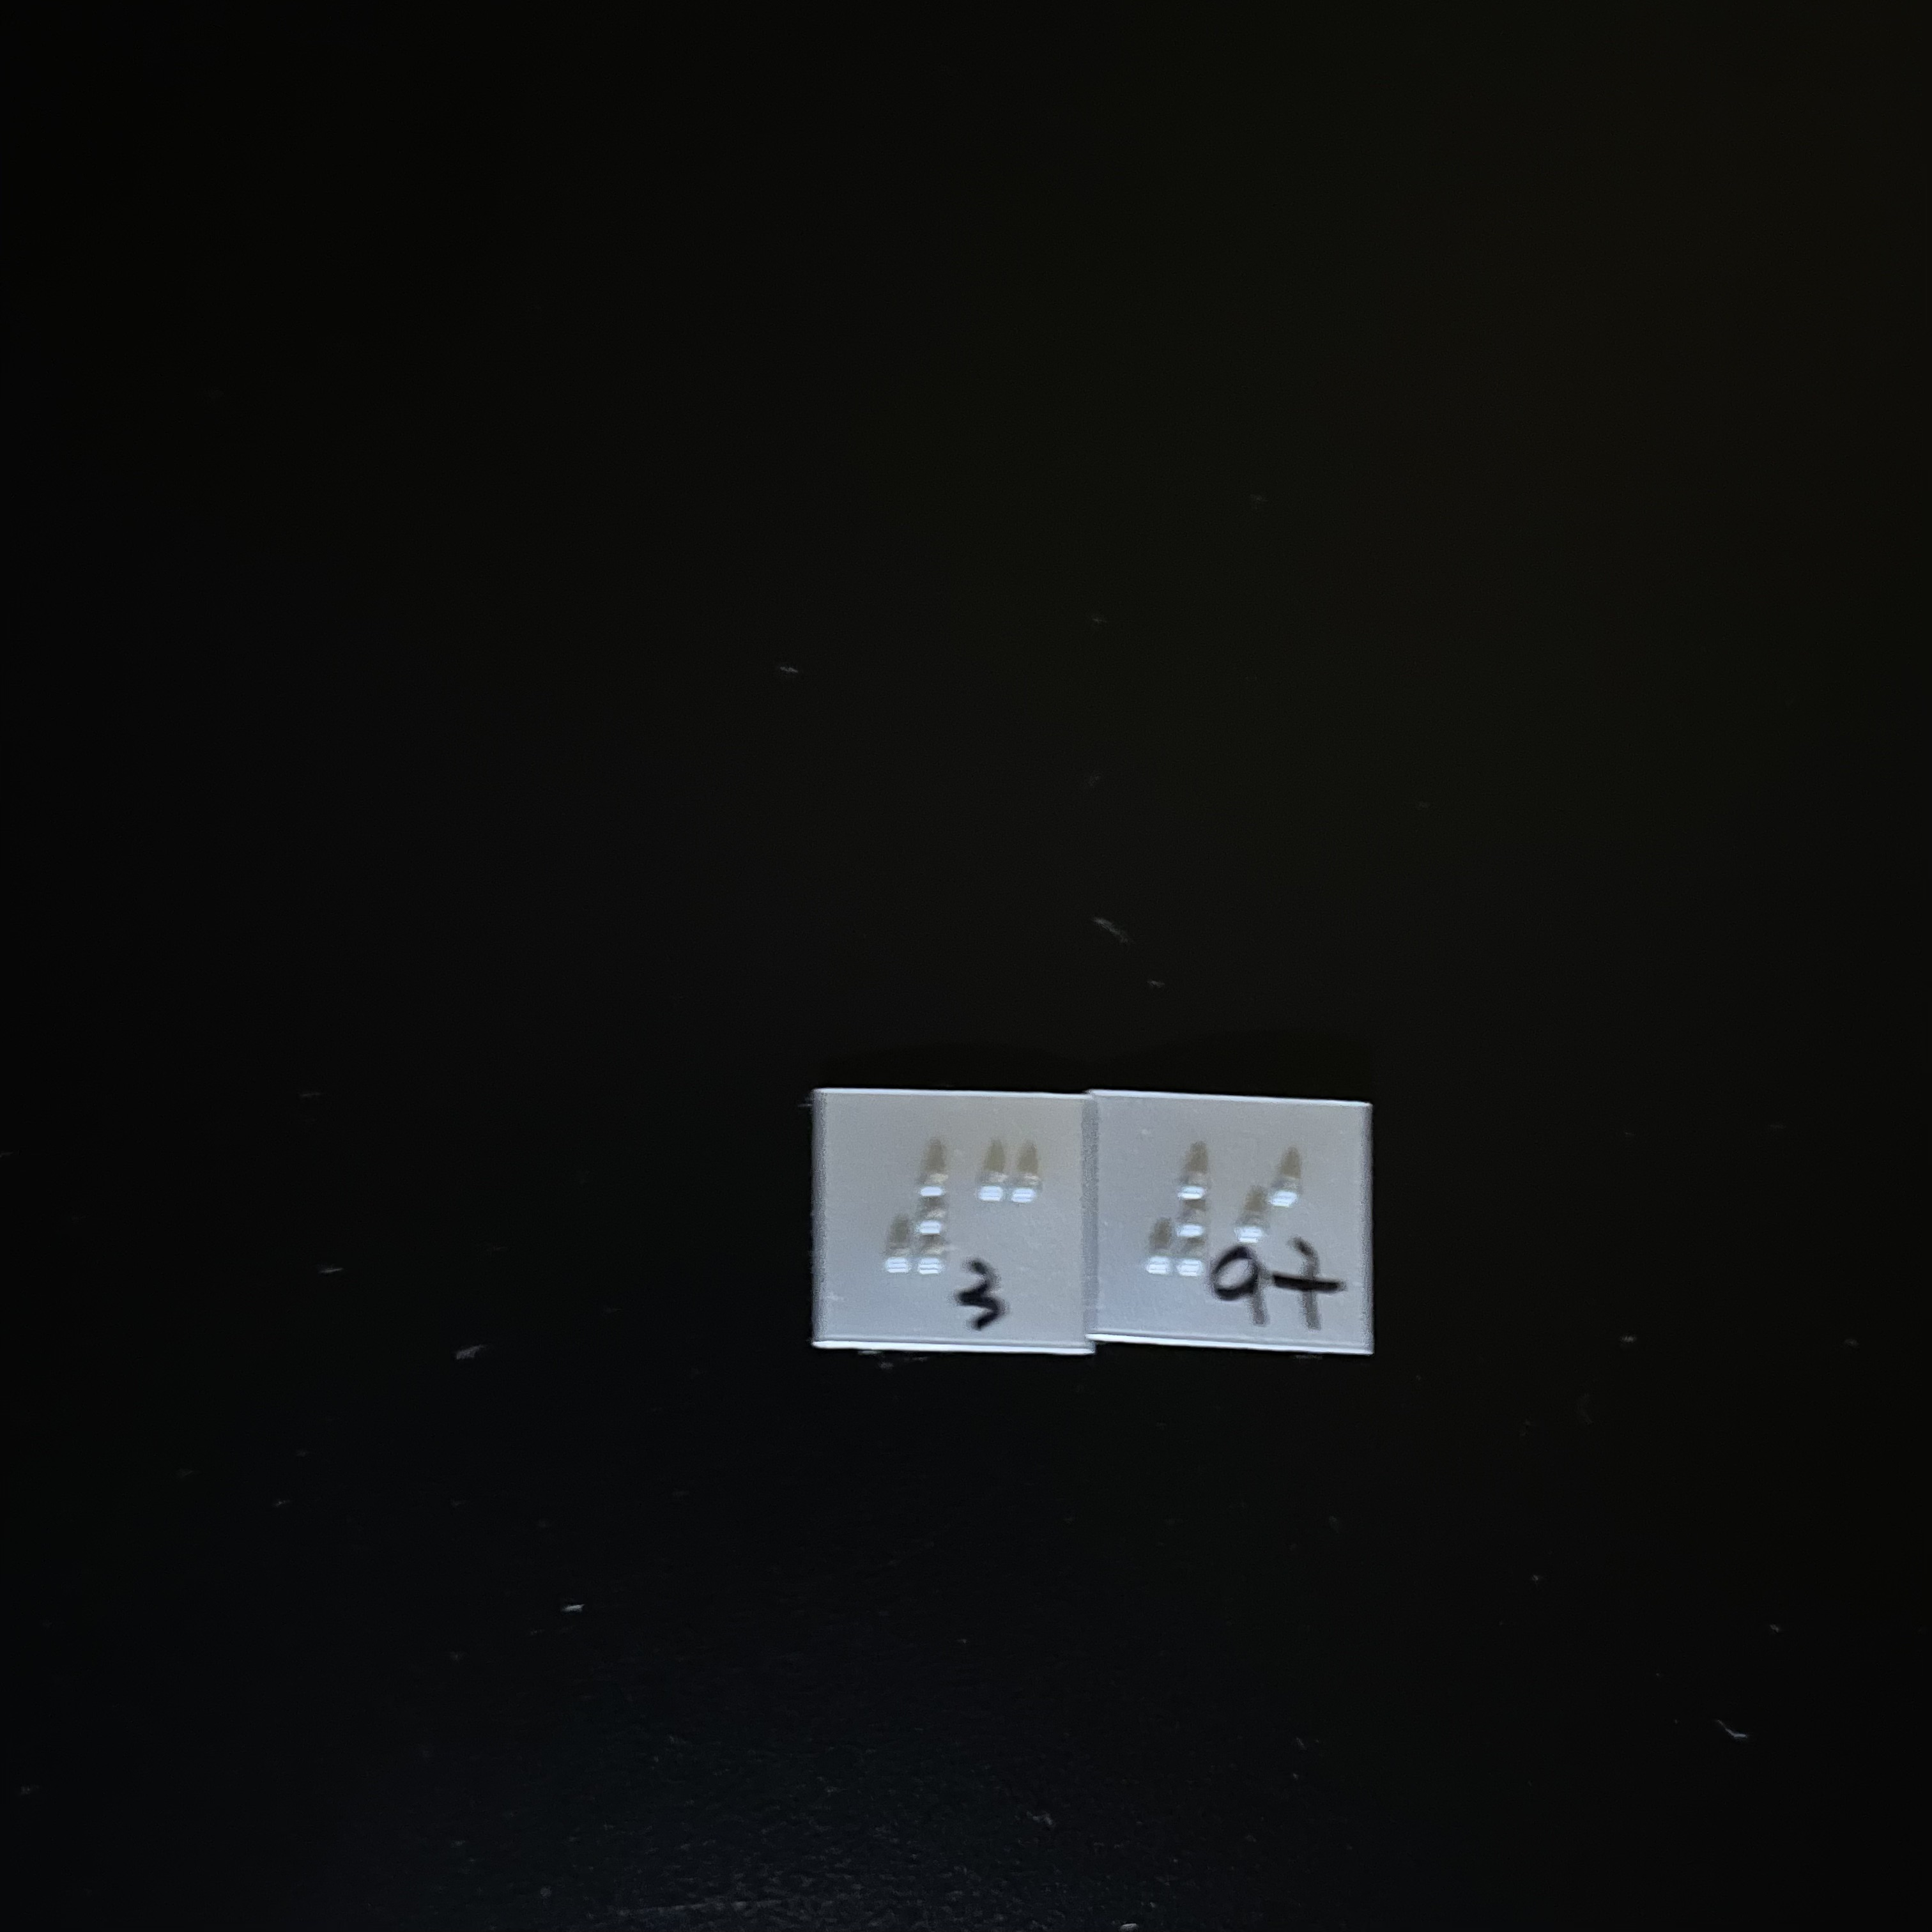#: (1142, 1143, 1227, 1286), (882, 1138, 961, 1289)
c: (972, 1143, 1047, 1289)
i: (1230, 1146, 1320, 1282)
